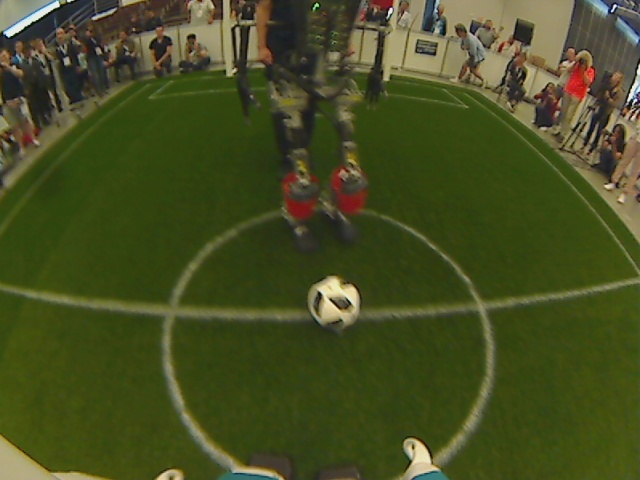ball: (306, 274, 362, 339)
goalpost: (215, 63, 239, 88), (377, 67, 398, 95)
robot: (273, 201, 373, 255)
